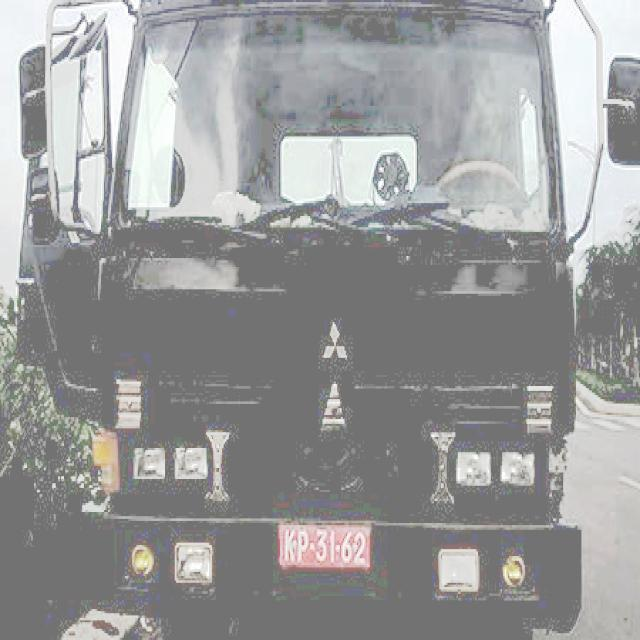license_plate: (281, 522, 372, 567)
